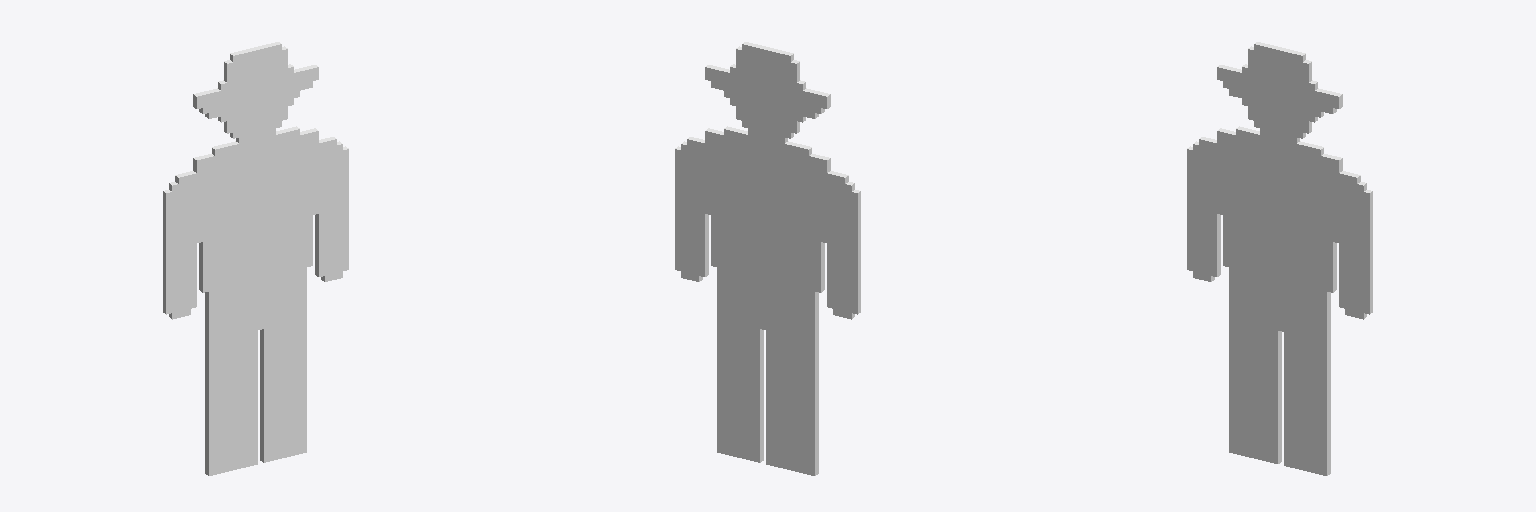
Rendered from Hat_Guy.obj.
The picture shows the model from 3 angles: view 1: azimuth 30°, elevation 25°; view 2: azimuth 150°, elevation 25°; view 3: azimuth 330°, elevation 25°; orthographic projection.
Parts seen in each view (by area): view 1: object 1; view 2: object 1; view 3: object 1.
Part boxes in pixels (x1,y1,x2,y2): object 1: (163, 42, 348, 475); object 1: (675, 42, 860, 475); object 1: (1187, 42, 1372, 475).
Bounding box in the file's own units: 3 × 6.5 × 0.1.